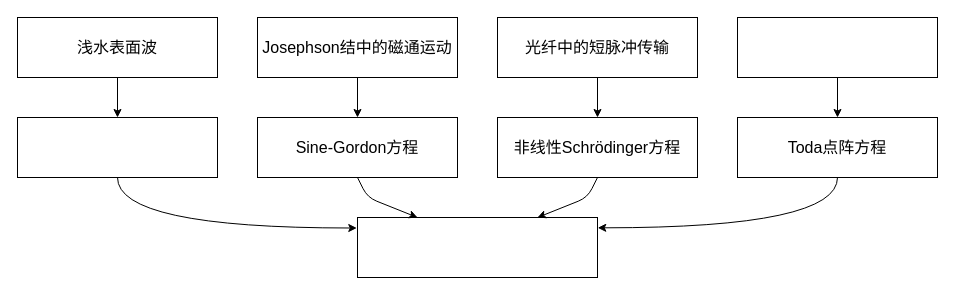
Some shapes in this 955 by 295 pixel diagram are drawn without their labels. The shapes that lost their labels are listed below. From the top down, each one's centre as x and y in pixels, then its label:
the point at 837,47: 晶格点振动
the point at 117,147: KdV方程
the point at 477,247: 描述孤子的非线性偏微分方程
